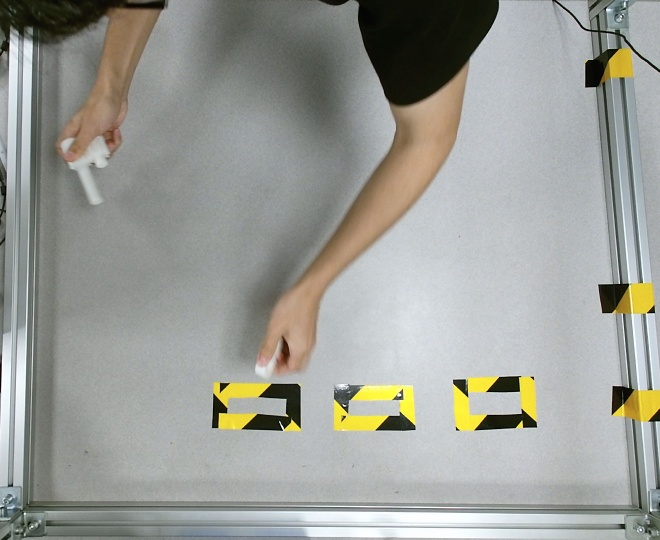stage_3: (60, 135, 110, 204)
